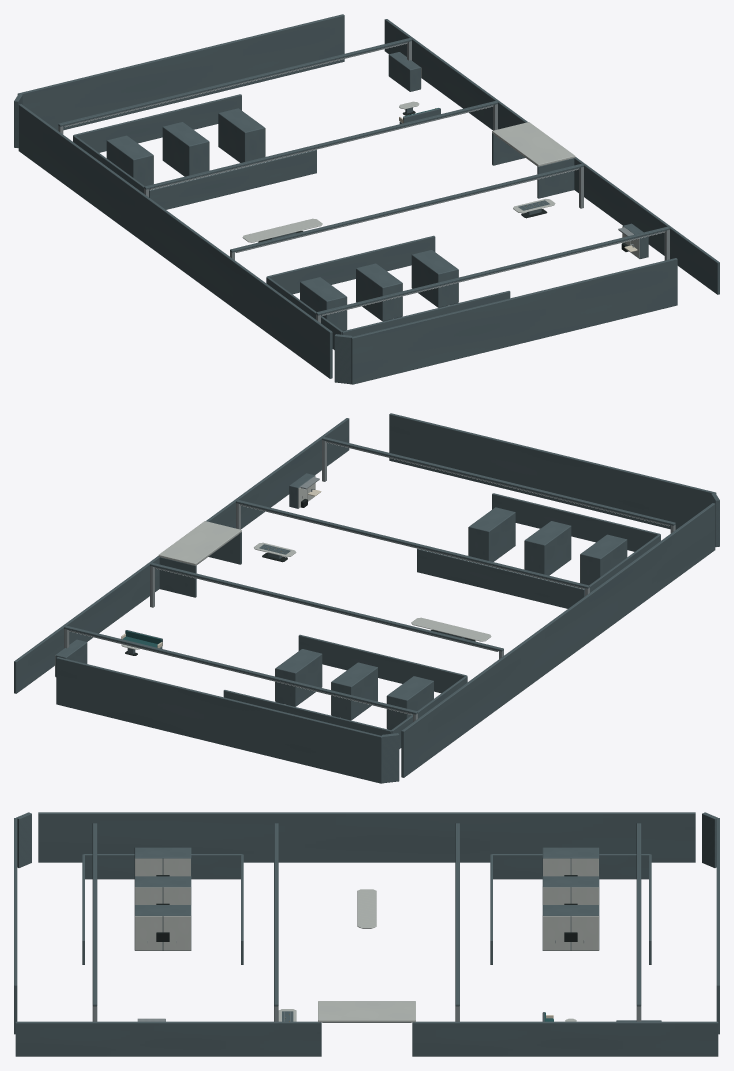
The model's file is SOL_D02_directory_07_source001.glb.
3 views of the same model, one above another, from view 1: azimuth 30°, elevation 25°; view 2: azimuth 150°, elevation 25°; view 3: azimuth 270°, elevation 25° (orthographic). The views are drawn at different scales.
Visible parts, largest first — view 1: A_edge1, A_back, A_edge-1, A_inward_screen1, A_power_court0_side_b, A_inward_screen-1, A_power_court0_side_a, A_power_court1_side_a, A_switchgear00_carcass, A_switchgear01_carcass, A_switchgear10_carcass, A_switchgear11_carcass (+18 smaller); view 2: A_edge-1, A_back, A_edge1, A_inward_screen-1, A_power_court1_side_a, A_inward_screen1, A_power_court1_side_b, A_power_court0_side_b, A_switchgear10_carcass, A_switchgear11_carcass, A_switchgear00_carcass, A_switchgear01_carcass (+17 smaller); view 3: A_back, A_inward_screen-1, A_inward_screen1, A_power_court0_rear, A_power_court1_rear, A_arrival_lintel, A_working_rib0_beam, A_working_rib3_beam, A_switchgear00_door0, A_switchgear00_door1, A_switchgear10_door0, A_switchgear10_door1 (+21 smaller).
Boxes of the visible parts, left/top/right/bottom form: A_edge1: left=351, top=258, right=677, bottom=384; A_back: left=18, top=104, right=332, bottom=378; A_edge-1: left=17, top=14, right=344, bottom=130; A_inward_screen1: left=574, top=157, right=719, bottom=294; A_power_court0_side_b: left=149, top=149, right=316, bottom=209; A_inward_screen-1: left=384, top=19, right=527, bottom=129; A_power_court0_side_a: left=73, top=94, right=241, bottom=152; A_power_court1_side_a: left=267, top=235, right=435, bottom=294; A_switchgear00_carcass: left=218, top=108, right=265, bottom=162; A_switchgear01_carcass: left=162, top=122, right=209, bottom=176; A_switchgear10_carcass: left=411, top=250, right=458, bottom=307; A_switchgear11_carcass: left=356, top=263, right=402, bottom=321; A_edge-1: left=56, top=657, right=382, bottom=783; A_back: left=401, top=503, right=715, bottom=777; A_edge1: left=389, top=413, right=716, bottom=529; A_inward_screen-1: left=14, top=556, right=159, bottom=693; A_power_court1_side_a: left=417, top=548, right=584, bottom=608; A_inward_screen1: left=206, top=418, right=349, bottom=528; A_power_court1_side_b: left=492, top=493, right=660, bottom=551; A_power_court0_side_b: left=298, top=634, right=466, bottom=693; A_switchgear10_carcass: left=468, top=507, right=515, bottom=561; A_switchgear11_carcass: left=524, top=521, right=571, bottom=575; A_switchgear00_carcass: left=275, top=649, right=322, bottom=706; A_switchgear01_carcass: left=331, top=662, right=377, bottom=720; A_back: left=38, top=812, right=695, bottom=862; A_inward_screen-1: left=412, top=1021, right=718, bottom=1056; A_inward_screen1: left=15, top=1021, right=321, bottom=1056; A_power_court0_rear: left=492, top=854, right=649, bottom=879; A_power_court1_rear: left=84, top=854, right=241, bottom=879; A_arrival_lintel: left=318, top=1001, right=415, bottom=1022; A_working_rib0_beam: left=636, top=823, right=641, bottom=1006; A_working_rib3_beam: left=92, top=823, right=97, bottom=1006; A_switchgear00_door0: left=571, top=916, right=598, bottom=950; A_switchgear00_door1: left=543, top=916, right=570, bottom=950; A_switchgear10_door0: left=163, top=916, right=190, bottom=950; A_switchgear10_door1: left=135, top=916, right=162, bottom=950.
Size of the model in its own units: 40.79 by 4.8 by 62.3.
8 materials, 8 textured.
